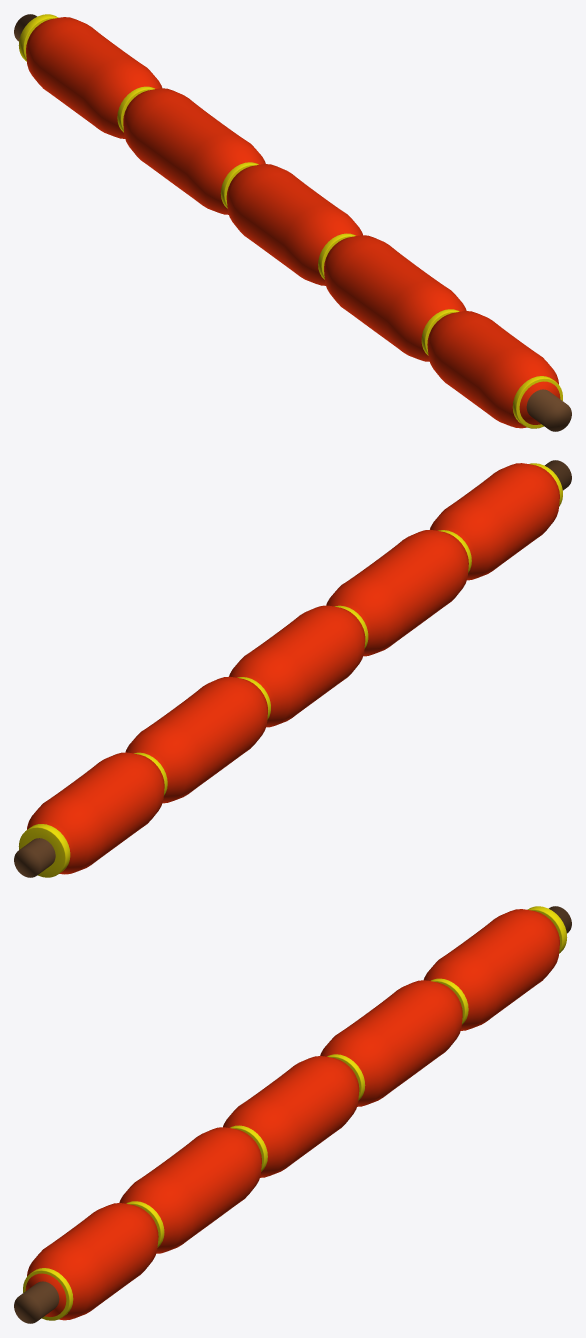
Rendered from Padded_Fence_Single.fbx.
3 renders of one model, top to bottom at view 1: azimuth 30°, elevation 25°; view 2: azimuth 150°, elevation 25°; view 3: azimuth 330°, elevation 25°, orthographic.
Parts seen in each view (by area): view 1: Padded_Fence_Single; view 2: Padded_Fence_Single; view 3: Padded_Fence_Single.
Boxes of the visible parts, x1,y1,x2,y2 form: Padded_Fence_Single: (14,14,571,431); Padded_Fence_Single: (14,460,571,877); Padded_Fence_Single: (14,906,571,1323).
Size of the model in its own units: 122 by 122 by 1646.
